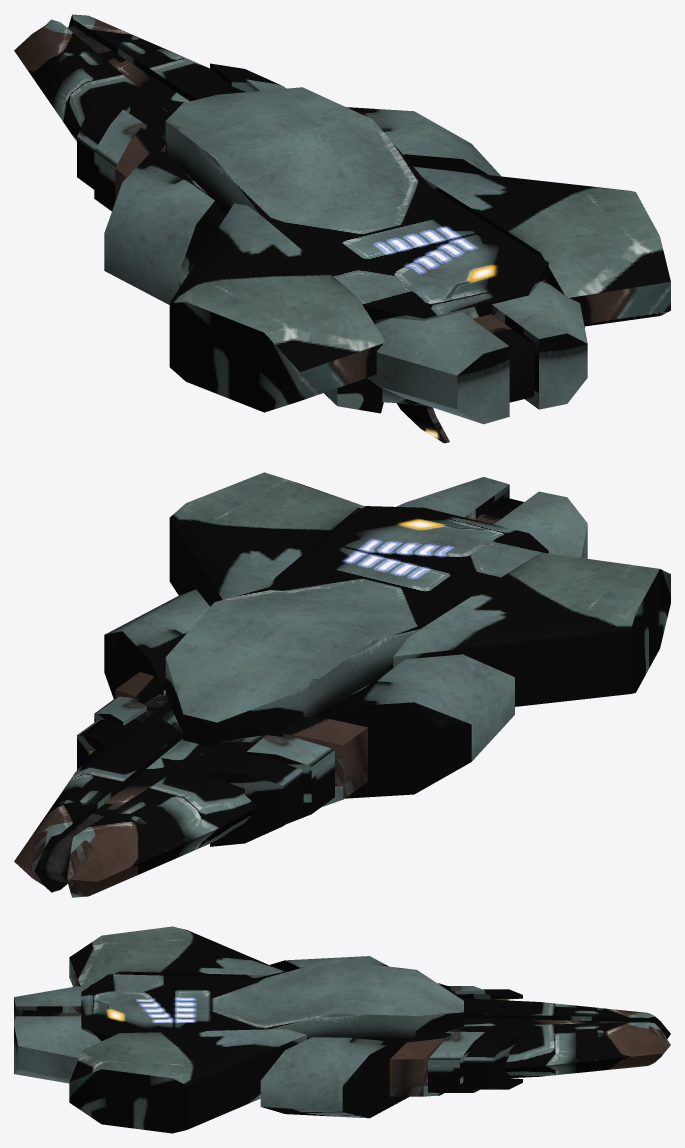
Rendered from ship12a.fbx.
3 renders of one model, top to bottom at view 1: azimuth 30°, elevation 25°; view 2: azimuth 150°, elevation 25°; view 3: azimuth 270°, elevation 25°, orthographic. The views are drawn at different scales.
Visible parts, largest first — view 1: PipelineFBX; view 2: PipelineFBX; view 3: PipelineFBX.
Boxes of the visible parts, bbox=[...] form: PipelineFBX: bbox=[14, 14, 670, 443]; PipelineFBX: bbox=[14, 472, 670, 897]; PipelineFBX: bbox=[14, 926, 670, 1133].
Size of the model in its own units: 284 by 114 by 506.
1 material, 1 textured.
